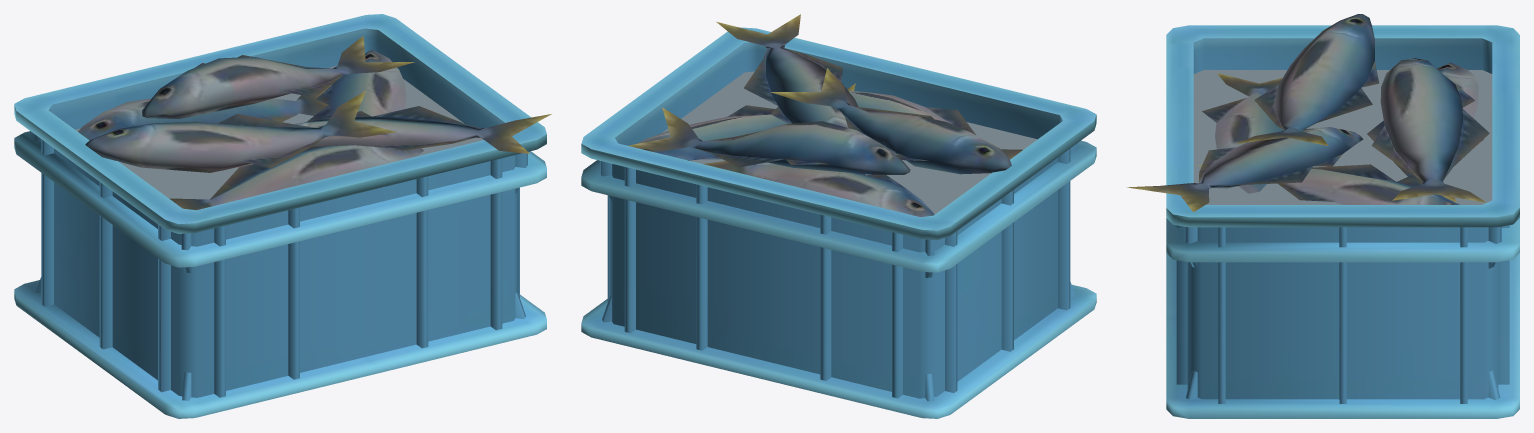
3 renders of one model, left to right at view 1: azimuth 30°, elevation 25°; view 2: azimuth 150°, elevation 25°; view 3: azimuth 270°, elevation 25°, orthographic. The views are drawn at different scales.
Bounding box in the file's own units: 8.68 × 4.84 × 7.36.
2 materials, 1 textured.
